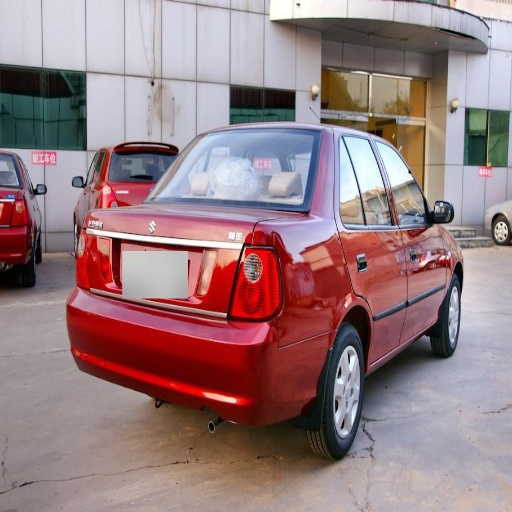back_bumper: (68, 287, 335, 425)
back_left_light: (76, 214, 115, 288)
back_right_door: (333, 131, 405, 358)
tailgate: (90, 201, 248, 319)
trunk: (223, 206, 290, 254)
